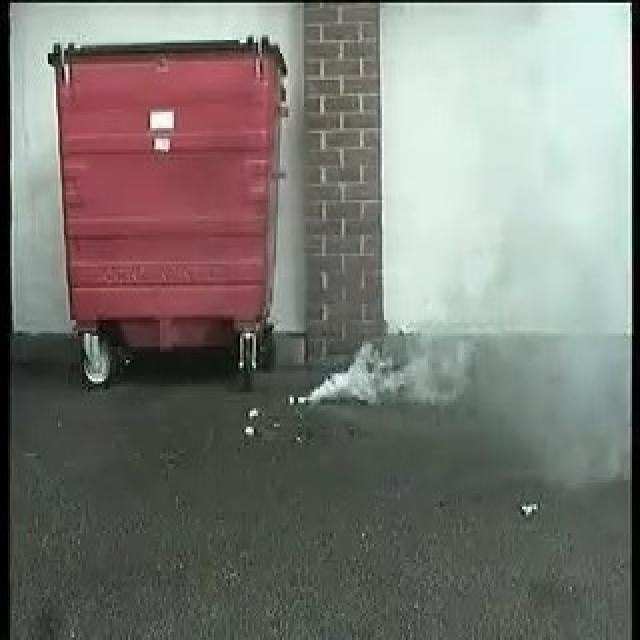smoke: (298, 302, 482, 413)
